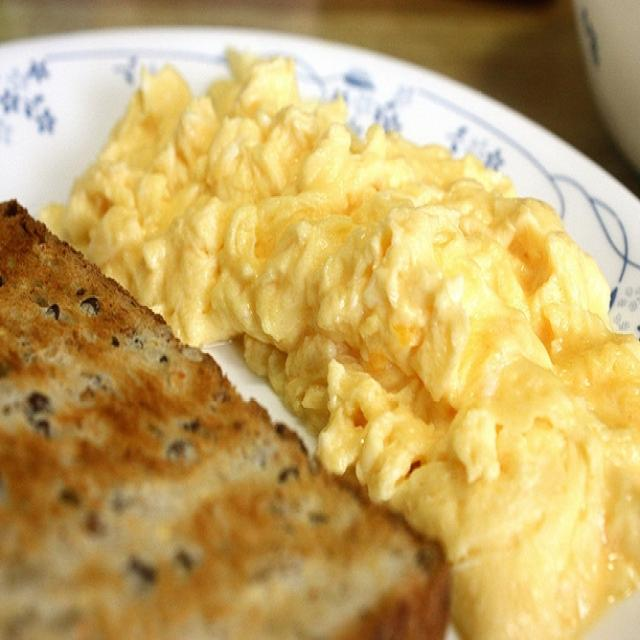鸡蛋料理: (29, 28, 624, 626)
